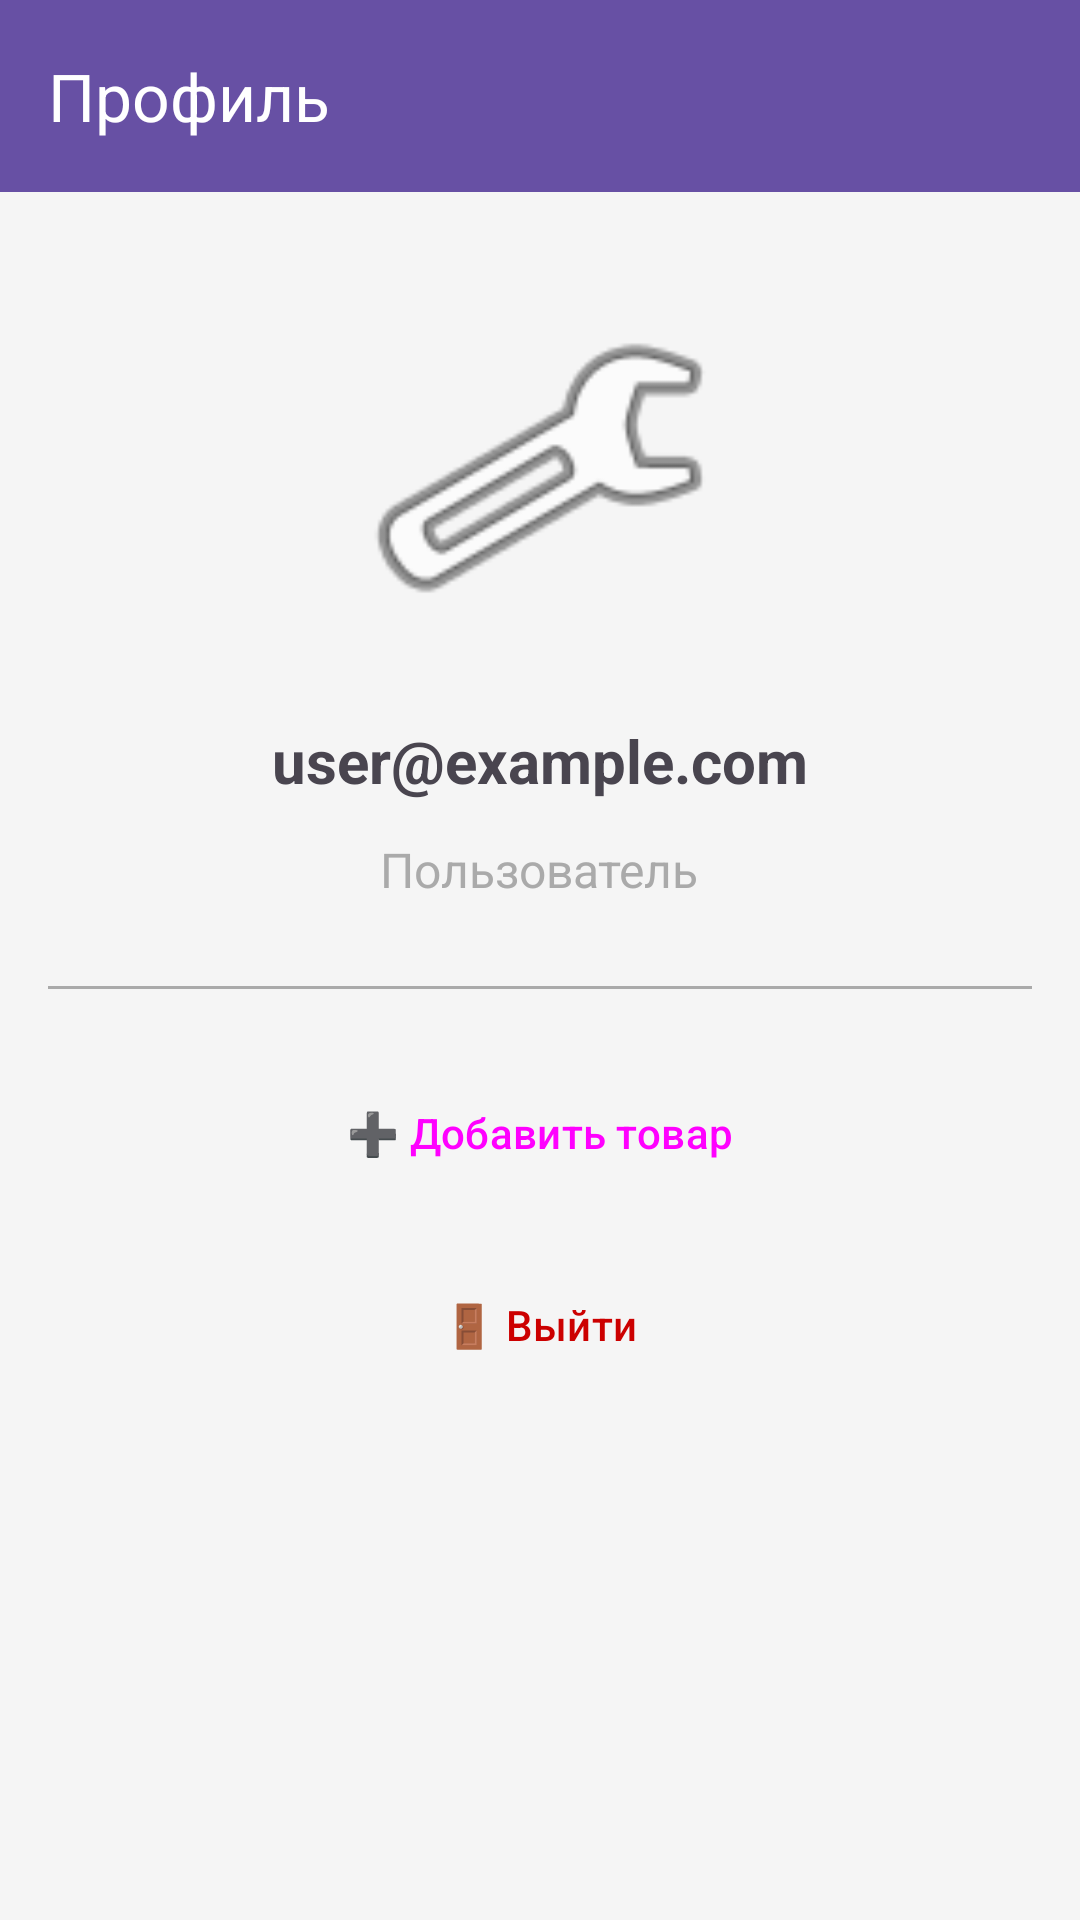

Icon bounding boxes for this 1080×1920 phone screenshot, format [x1, y1, x2, y2]:
manage: [377, 344, 702, 592]
